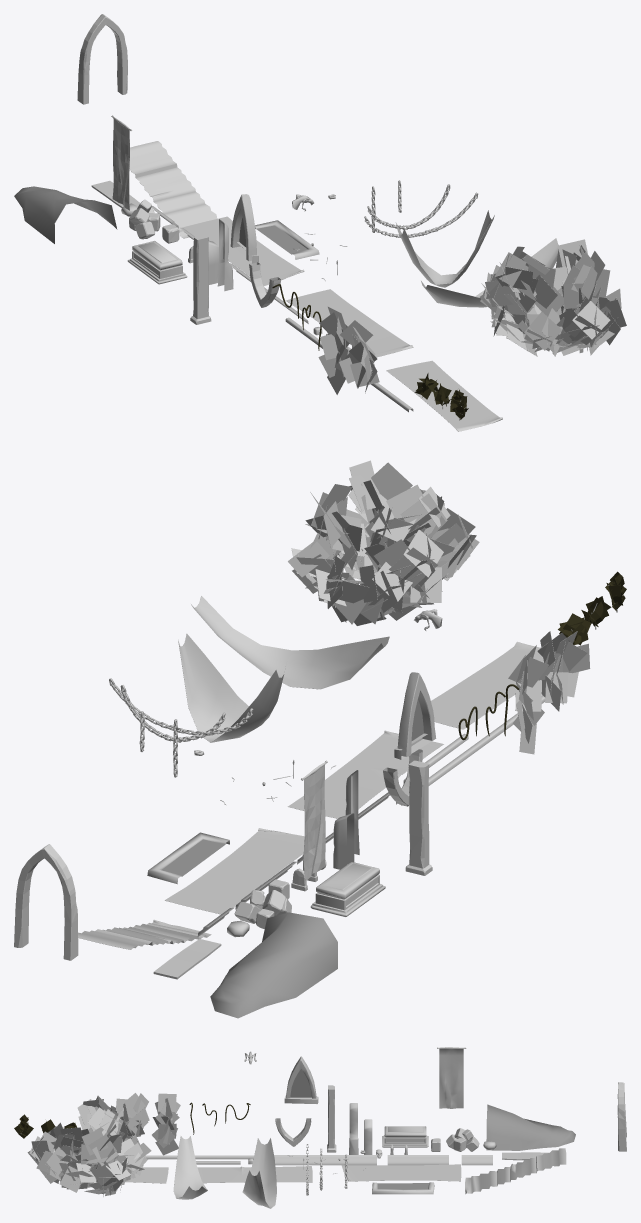
Rendered from 6_zPynt.FBX.
3 renders of one model, top to bottom at view 1: azimuth 30°, elevation 25°; view 2: azimuth 150°, elevation 25°; view 3: azimuth 270°, elevation 25°, orthographic. The views are drawn at different scales.
Visible parts, largest first — view 1: TreeLeaves, Carpet4, Carpet2, Rubble_Big, Carpet3, Carpet1, Arch, Bush_Wall2, Bush_Wall1, Coffin, PillarSmall, Banner (+7 smaller); view 2: TreeLeaves, Rubble_Big, HangingCloth1, Carpet1, HangingCloth2, Carpet2, Carpet3, Arch, Bush_Wall2, Coffin, Bush_Wall1, PillarSmall (+9 smaller); view 3: TreeLeaves, Rubble_Big, Carpet1, Carpet4, HangingCloth2, Banner, Carpet3, HangingCloth1, Bush_Wall1, WallFloorContact_Big, Window, Bush_Wall2 (+14 smaller).
Part boxes in pixels (bbox=[...]): TreeLeaves: bbox=[479, 239, 626, 356]; Carpet4: bbox=[129, 141, 217, 238]; Carpet2: bbox=[386, 360, 502, 431]; Rubble_Big: bbox=[14, 186, 117, 243]; Carpet3: bbox=[285, 289, 413, 357]; Carpet1: bbox=[181, 216, 304, 285]; Arch: bbox=[77, 14, 127, 104]; Bush_Wall2: bbox=[339, 320, 379, 393]; Bush_Wall1: bbox=[318, 306, 349, 394]; Coffin: bbox=[127, 241, 187, 284]; PillarSmall: bbox=[190, 234, 211, 324]; Banner: bbox=[111, 115, 131, 210]; TreeLeaves: bbox=[288, 460, 479, 625]; Rubble_Big: bbox=[210, 912, 337, 1018]; HangingCloth1: bbox=[191, 596, 389, 689]; Carpet1: bbox=[164, 828, 304, 914]; HangingCloth2: bbox=[178, 633, 286, 742]; Carpet2: bbox=[431, 641, 543, 729]; Carpet3: bbox=[288, 730, 443, 818]; Arch: bbox=[14, 844, 78, 960]; Bush_Wall2: bbox=[537, 631, 590, 711]; Coffin: bbox=[310, 862, 385, 916]; Bush_Wall1: bbox=[508, 645, 548, 754]; PillarSmall: bbox=[405, 760, 432, 875]; TreeLeaves: bbox=[27, 1095, 151, 1196]; Rubble_Big: bbox=[486, 1104, 575, 1150]; Carpet1: bbox=[341, 1164, 461, 1181]; Carpet4: bbox=[465, 1148, 566, 1194]; HangingCloth2: bbox=[242, 1138, 276, 1208]; Banner: bbox=[437, 1047, 466, 1108]; Carpet3: bbox=[197, 1166, 312, 1183]; HangingCloth1: bbox=[173, 1136, 207, 1199]; Bush_Wall1: bbox=[152, 1093, 180, 1155]; WallFloorContact_Big: bbox=[274, 1155, 376, 1165]; Window: bbox=[284, 1056, 318, 1103]; Bush_Wall2: bbox=[110, 1093, 149, 1137].
Size of the model in its own units: 861 by 415 by 1996.
